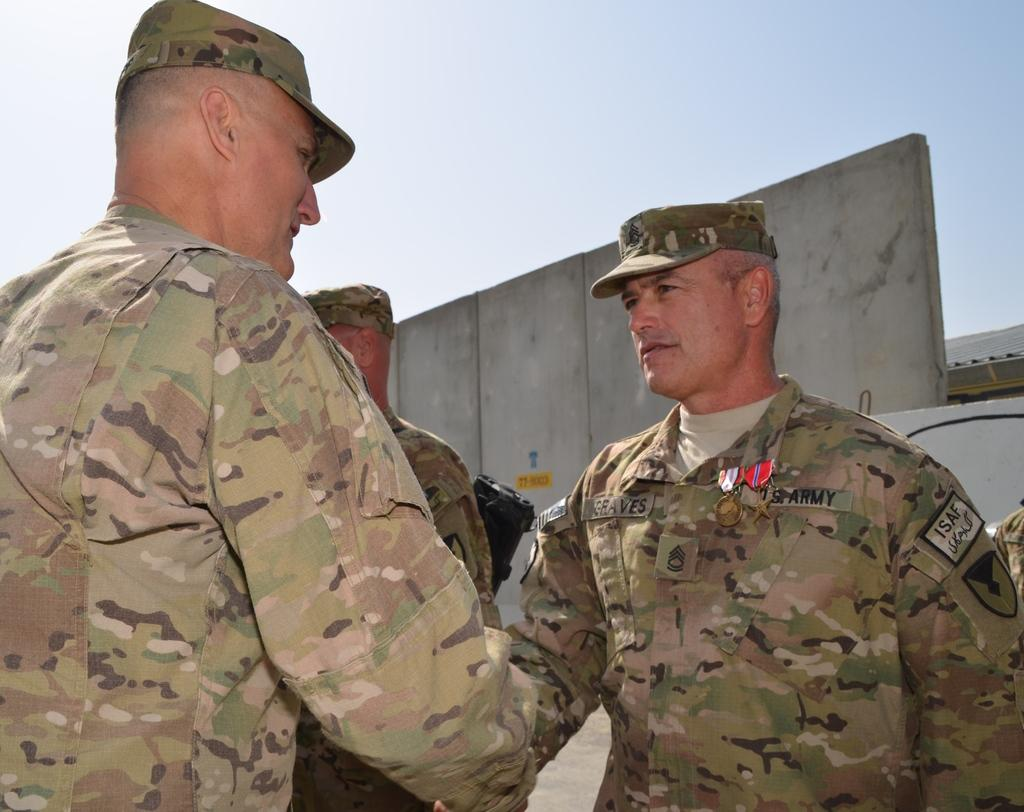Sem Máscara: (619, 256, 747, 395), (231, 98, 322, 274)
